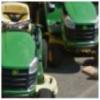tractors: (1, 2, 55, 98), (41, 2, 99, 69)
